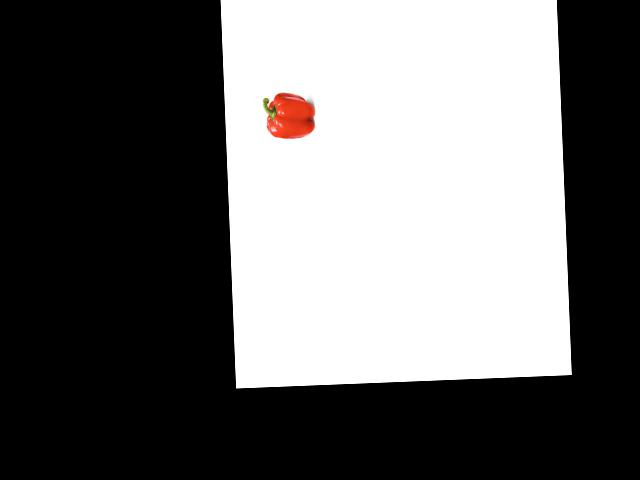bell_pepper: (261, 91, 316, 141)
